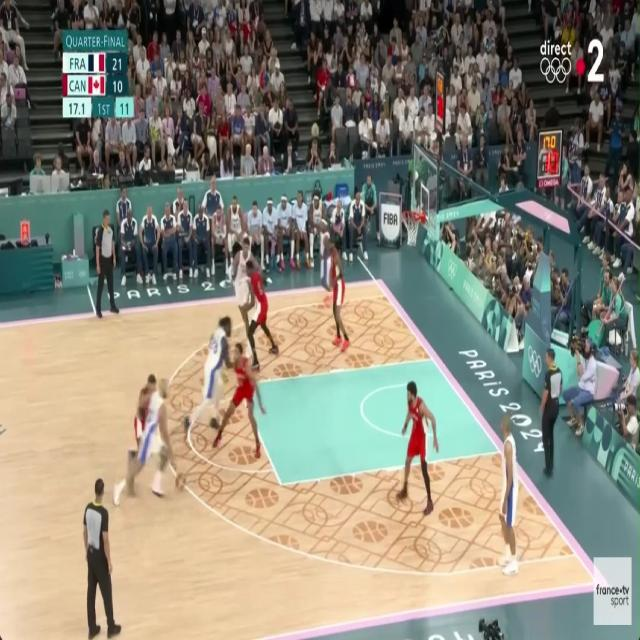ball_handler: (152, 376, 186, 503)
